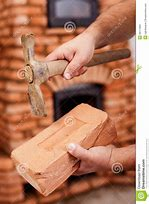hammer: (16, 30, 134, 119)
